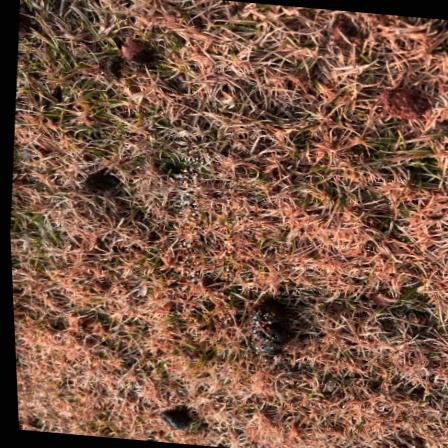dog-poop: (239, 298, 289, 363), (154, 404, 191, 432)
